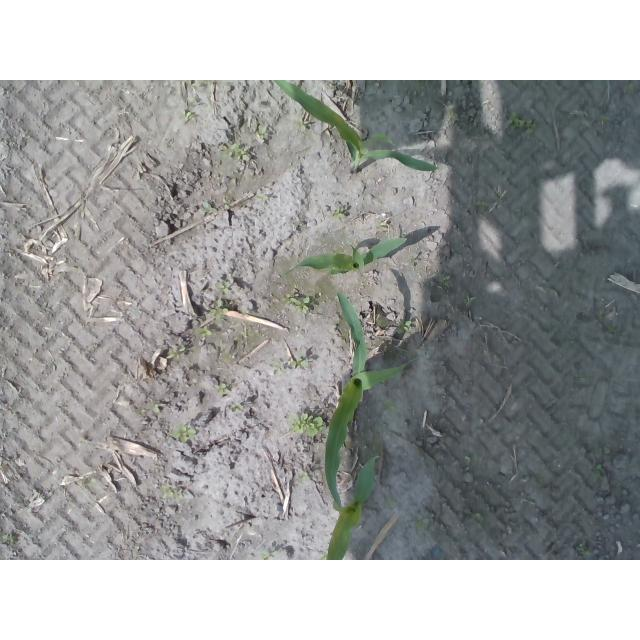Maize: (326, 290, 402, 515), (273, 80, 440, 173), (325, 454, 379, 560), (280, 235, 407, 275)
Weeds: (290, 414, 325, 439), (506, 110, 538, 134), (287, 292, 311, 313), (172, 424, 196, 444), (208, 300, 229, 322), (225, 144, 247, 161), (162, 485, 184, 499), (417, 518, 432, 531), (464, 454, 480, 466), (289, 359, 306, 370), (440, 275, 452, 289), (220, 283, 233, 295), (165, 350, 178, 362), (387, 400, 398, 414), (474, 513, 483, 530), (333, 207, 344, 220), (201, 201, 212, 213), (199, 328, 213, 337), (402, 320, 412, 332), (216, 385, 228, 394), (232, 403, 242, 413), (182, 109, 192, 119), (153, 404, 162, 414), (299, 470, 309, 478)
